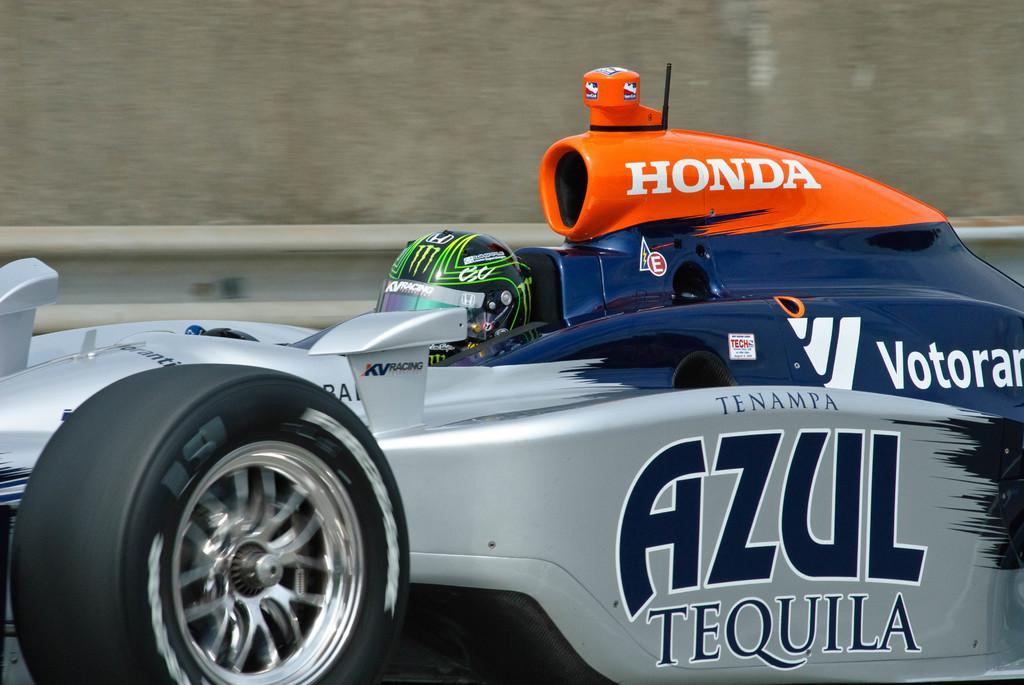helmet: (372, 229, 532, 375)
